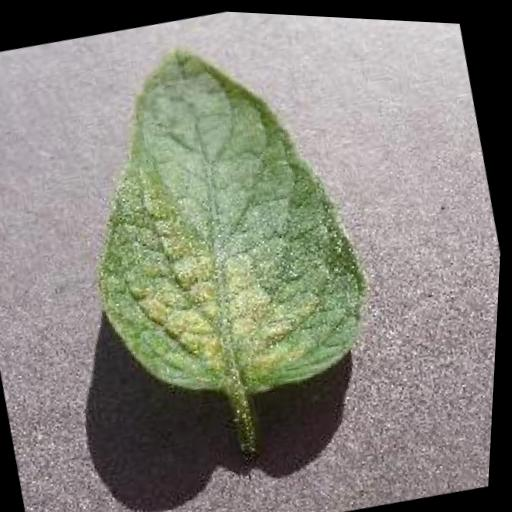Spider Mites: (51, 13, 399, 426)
